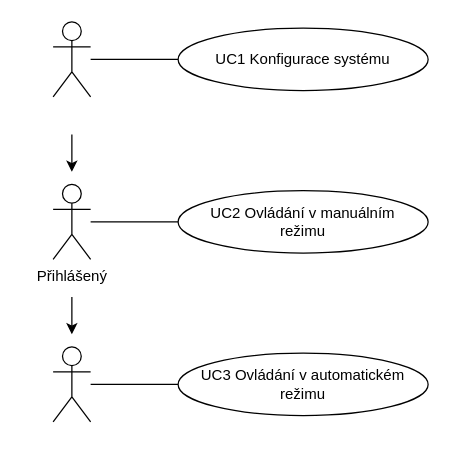
Some shapes in this 450 by 470 pixel diagram are drawn without their labels. The centre of each missing label's shape, as x and y in pixels:
"Neregistrovaný" belongs at (71,384).
"Technolog" belongs at (71,59).
